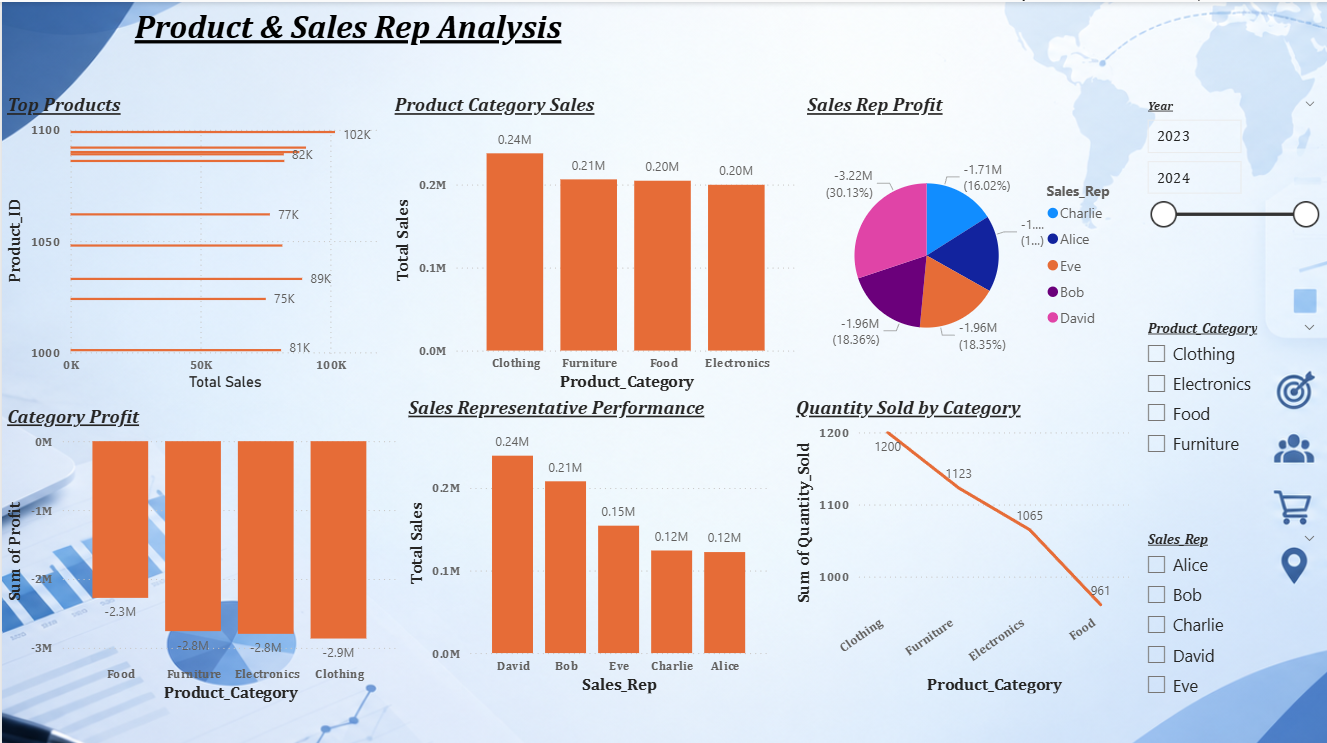

Layout of this report page (visuals, bound fields, positions):
{"tool":"powerbi","page":{"name":"Page 3","canvas":[1280,720],"ordinal":2},"visuals":[{"type":"textbox","box":[123.1,0,428.3,54.3],"z":0},{"type":"barChart","title":"Top Products","fields":{"Category":["cleaned_sales_data.Product_ID"],"Y":["cleaned_sales_data.Total Sales"]},"box":[0,88.1,384.9,292],"z":1},{"type":"clusteredColumnChart","title":"Product Category Sales","fields":{"Y":["cleaned_sales_data.Total Sales"],"Category":["cleaned_sales_data.Product_Category"]},"box":[374,88.1,398.1,292],"z":2},{"type":"clusteredColumnChart","title":"Category Profit","fields":{"Category":["cleaned_sales_data.Product_Category"],"Y":["Sum(cleaned_sales_data.Profit)"]},"box":[0,388.5,387.3,292],"z":3},{"type":"clusteredColumnChart","title":"Sales Representative Performance","fields":{"Category":["cleaned_sales_data.Sales_Rep"],"Y":["cleaned_sales_data.Total Sales"]},"box":[387.3,380,357.1,292],"z":4},{"type":"pieChart","title":"Sales Rep Profit","fields":{"Category":["cleaned_sales_data.Sales_Rep"],"Y":["Sum(cleaned_sales_data.Profit)"]},"box":[772.1,88.1,320.9,292],"z":5},{"type":"lineChart","title":"Quantity Sold by Category","fields":{"Category":["cleaned_sales_data.Product_Category"],"Y":["Sum(cleaned_sales_data.Quantity_Sold)"]},"box":[761.3,380,331.8,292],"z":6},{"type":"slicer","fields":{"Values":["cleaned_sales_data.Year"]},"box":[1093,88.1,187,131.5],"z":7},{"type":"slicer","fields":{"Values":["cleaned_sales_data.Product_Category"]},"box":[1093,301.6,187,158],"z":8},{"type":"slicer","fields":{"Values":["cleaned_sales_data.Sales_Rep"]},"box":[1093,505.5,187,178.6],"z":9}]}

Visuals, with their boxes in screenshot pixels (x1, y1, x2, y2), scaled from the page's 1280x720 canvas onto the 1327x743 screenshot:
textbox: (128, 0, 572, 56)
"Top Products" barChart: (0, 91, 399, 392)
"Product Category Sales" clusteredColumnChart: (388, 91, 800, 392)
"Category Profit" clusteredColumnChart: (0, 401, 402, 702)
"Sales Representative Performance" clusteredColumnChart: (402, 392, 772, 693)
"Sales Rep Profit" pieChart: (800, 91, 1133, 392)
"Quantity Sold by Category" lineChart: (789, 392, 1133, 693)
slicer - cleaned_sales_data.Year: (1133, 91, 1326, 227)
slicer - cleaned_sales_data.Product_Category: (1133, 311, 1326, 474)
slicer - cleaned_sales_data.Sales_Rep: (1133, 522, 1326, 706)
